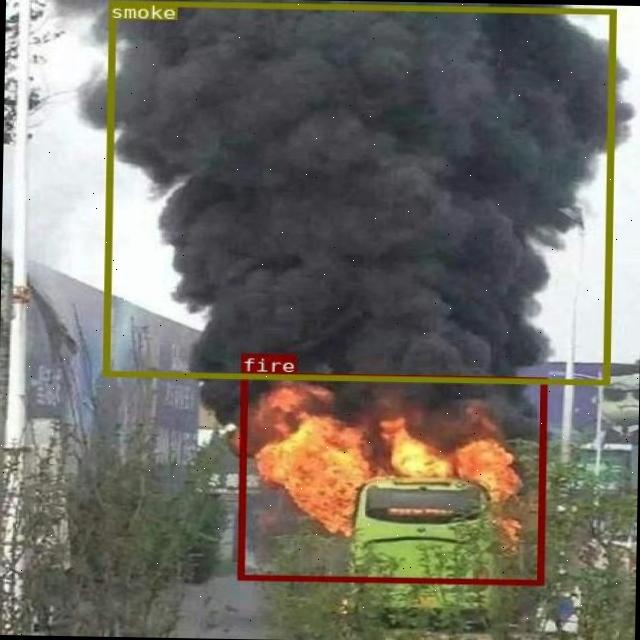fire: (236, 372, 546, 583)
smoke: (102, 0, 613, 384)
